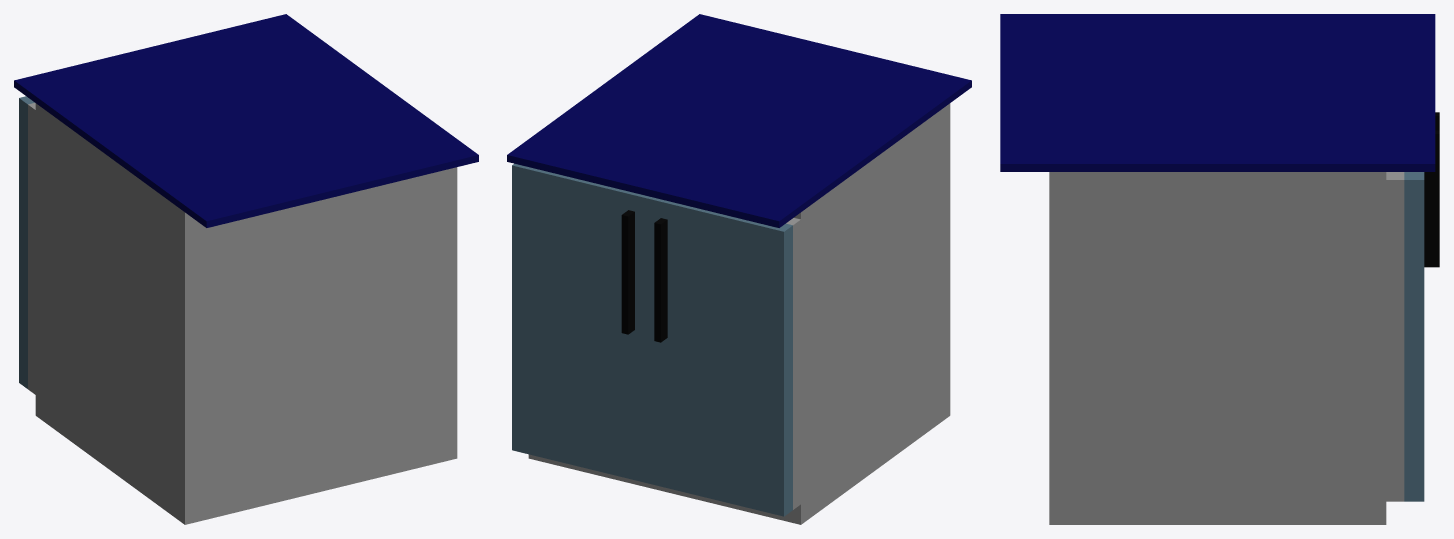
File: counter_counter 1.fbx
3 views of the same model, side by side, from view 1: azimuth 30°, elevation 25°; view 2: azimuth 150°, elevation 25°; view 3: azimuth 270°, elevation 25° (orthographic). The views are drawn at different scales.
Visible parts, largest first — view 1: counter_counter, counter_counter_cabinet_door008; view 2: counter_counter, counter_counter_cabinet_door008, counter_counter_cabinet_door009; view 3: counter_counter, counter_counter_cabinet_door009.
Part boxes in pixels (x1=…): counter_counter: x1=14, y1=14, x2=478, y2=524; counter_counter_cabinet_door008: x1=19, y1=96, x2=34, y2=388; counter_counter: x1=507, y1=14, x2=971, y2=524; counter_counter_cabinet_door008: x1=648, y1=197, x2=792, y2=516; counter_counter_cabinet_door009: x1=512, y1=163, x2=649, y2=483; counter_counter: x1=1000, y1=14, x2=1435, y2=524; counter_counter_cabinet_door009: x1=1404, y1=130, x2=1439, y2=501.
Size of the model in its own units: 6202 by 6957 by 7673.
